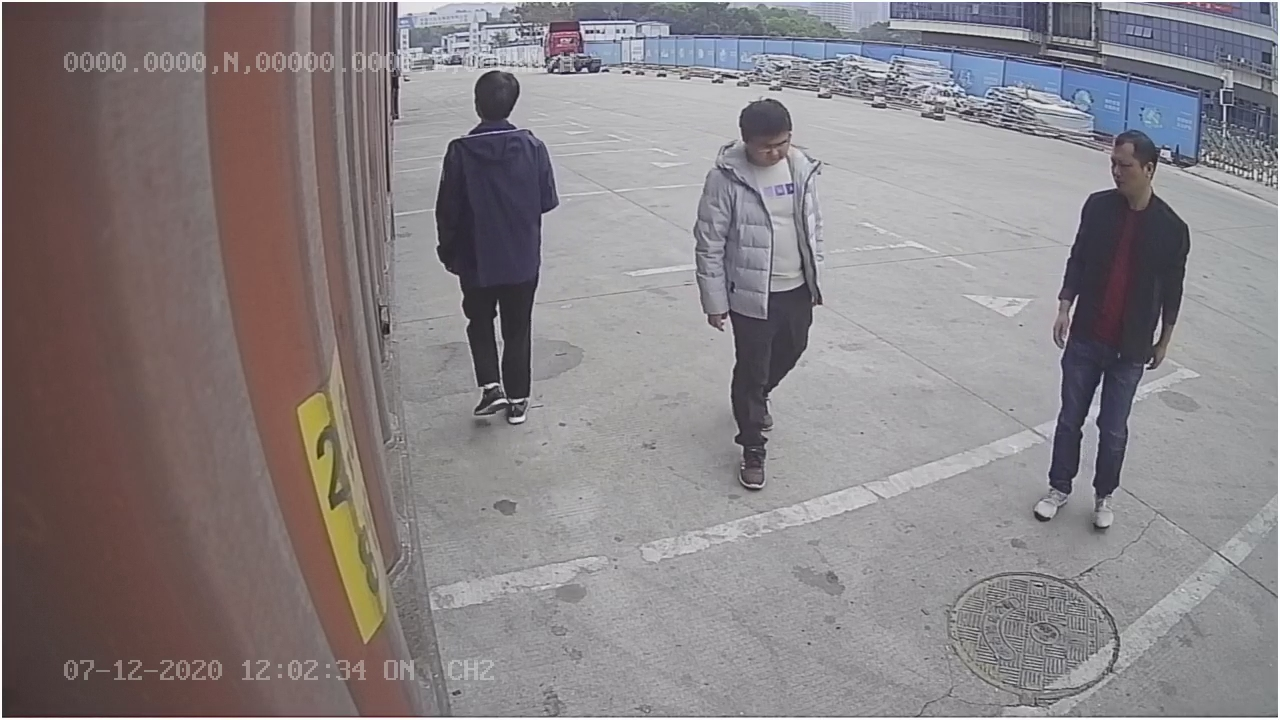person: (1029, 117, 1194, 533), (693, 95, 830, 493), (434, 70, 560, 423)
